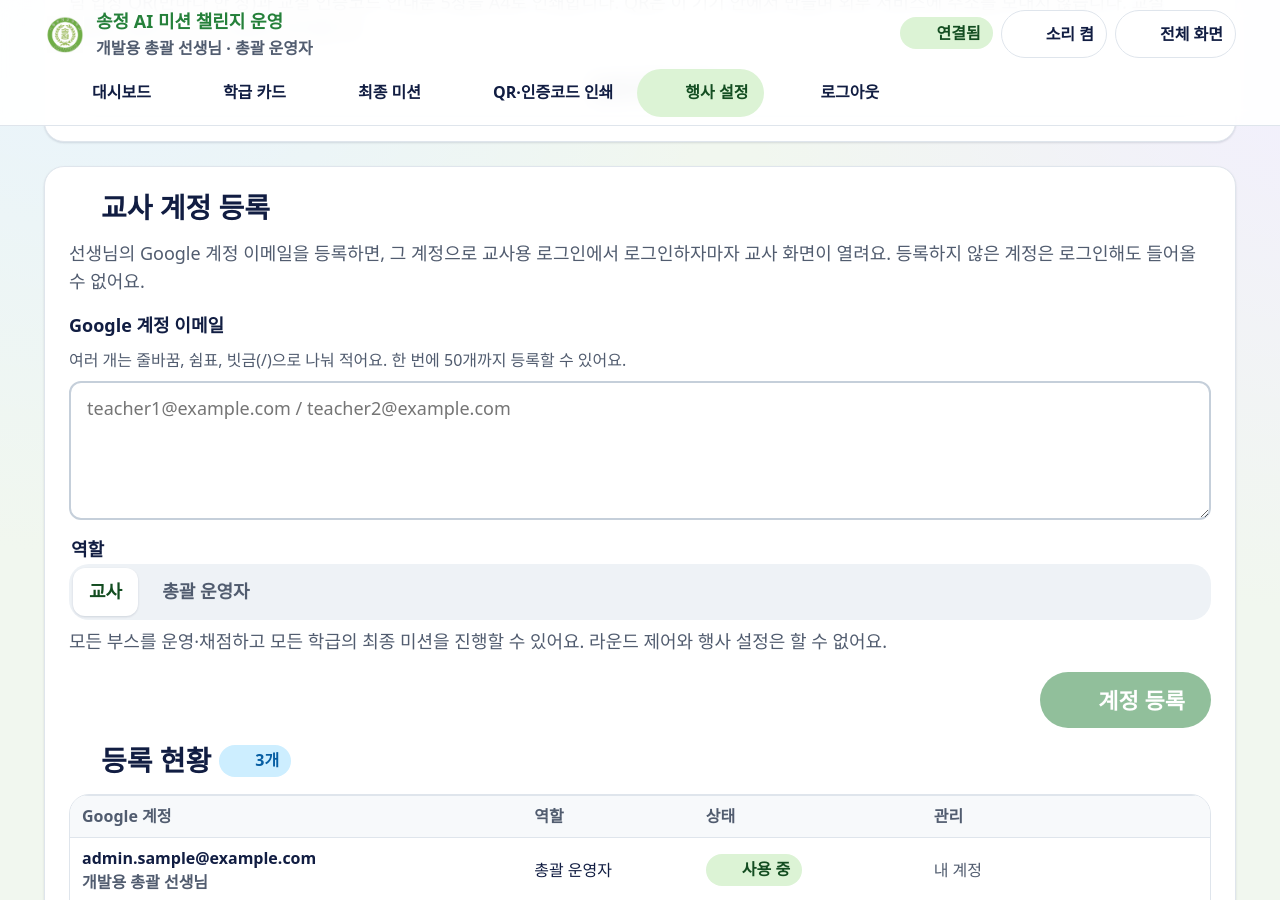
Test: 교사 계정 등록 › 이미 교사인 계정은 빼고 등록한다
The image size is (1280, 900).
(page scrolled)
Type "teacher.sample@example.com new@example.com" into the text box labelled "Google 계정 이메일" at (640, 451), box [69,381,1211,520]
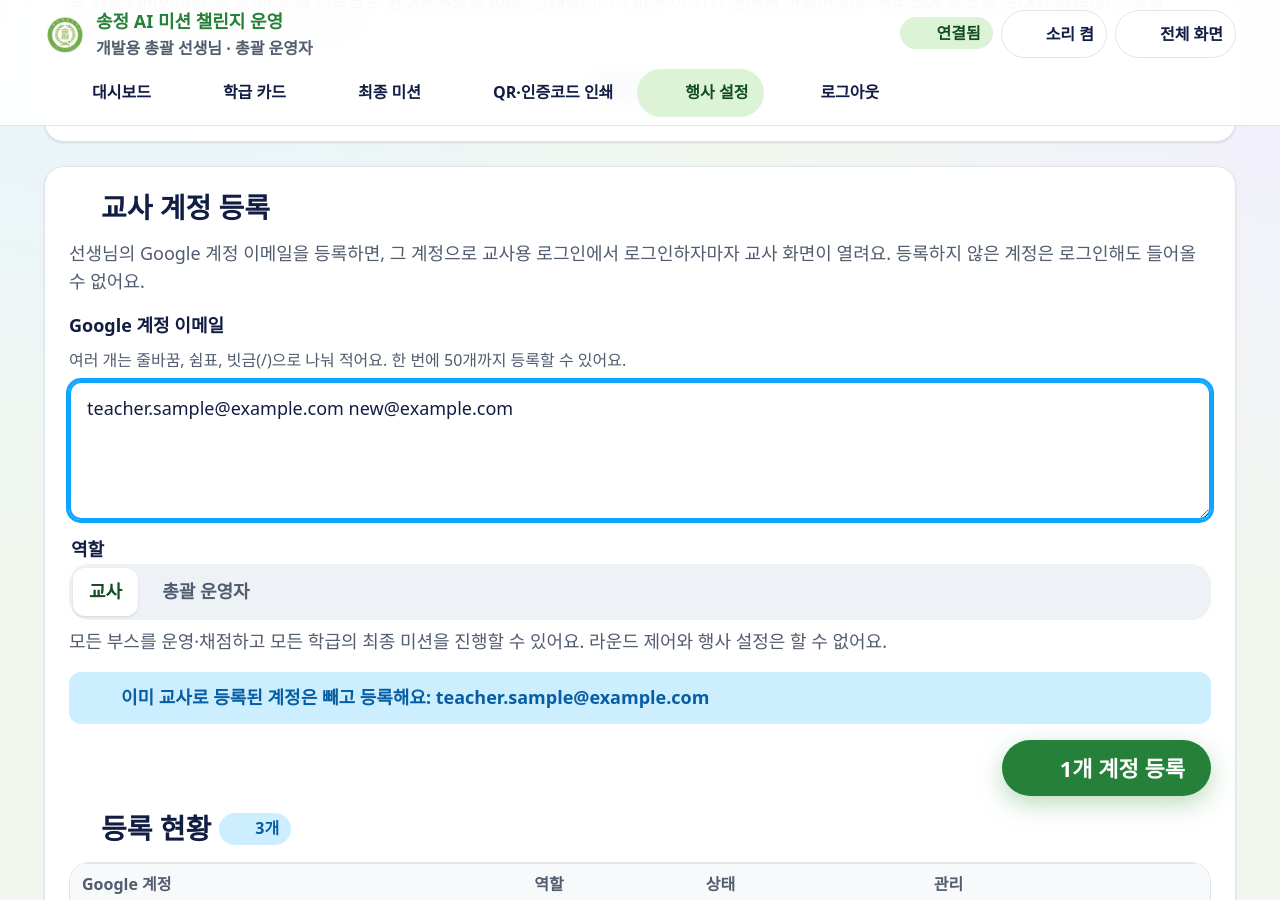
Check: the text "이미 교사로 등록된 계정은 빼고 등록해요: teacher.sample@example.com" is shown, box [121,685,709,709]
Check: the button "1개 계정 등록" is enabled, box [1002,740,1211,796]
